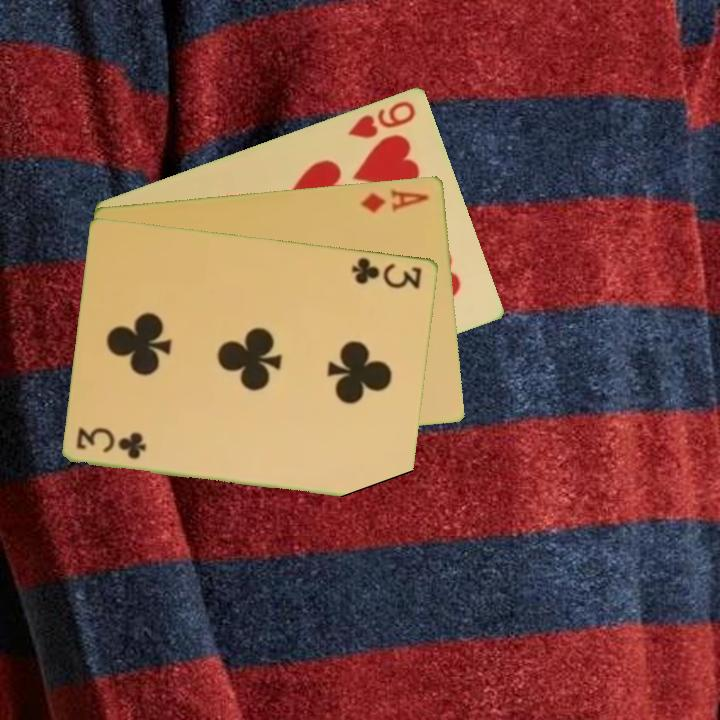3c: (348, 253, 425, 291), (73, 425, 150, 462)
9h: (345, 96, 419, 141)
Ad: (357, 185, 432, 215)
